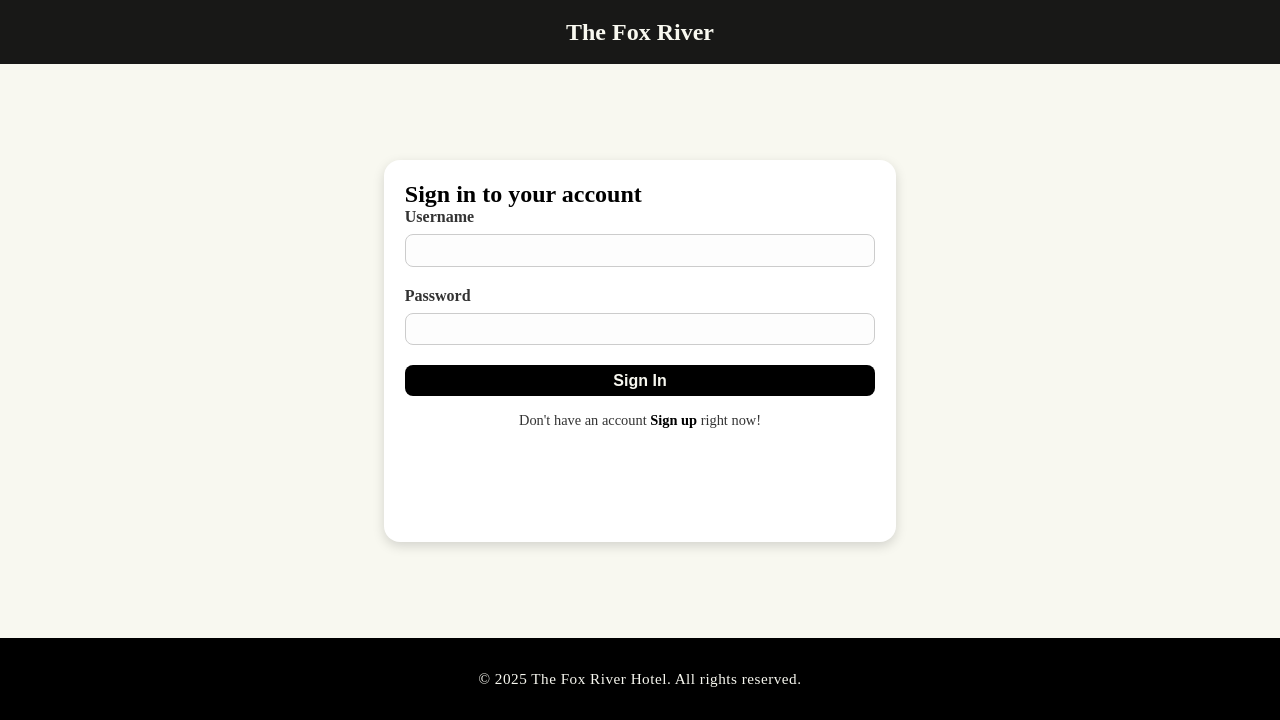
Test: Login.vue › displays error on incorrect credentials
Type "wrong" into the field with id "username". click: (640, 250)
box: [405,234,875,267]
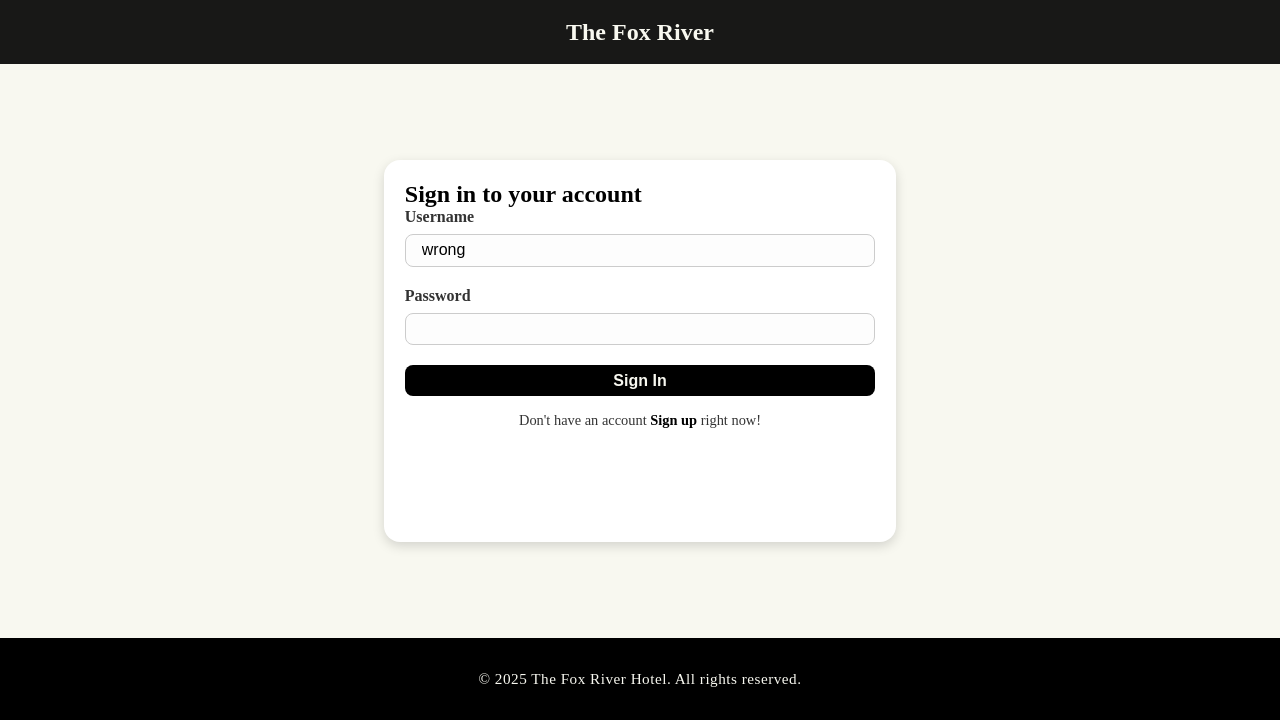
Type "wrongpass" into the password field labelled "Password". click: (640, 329)
box: [405,313,875,345]
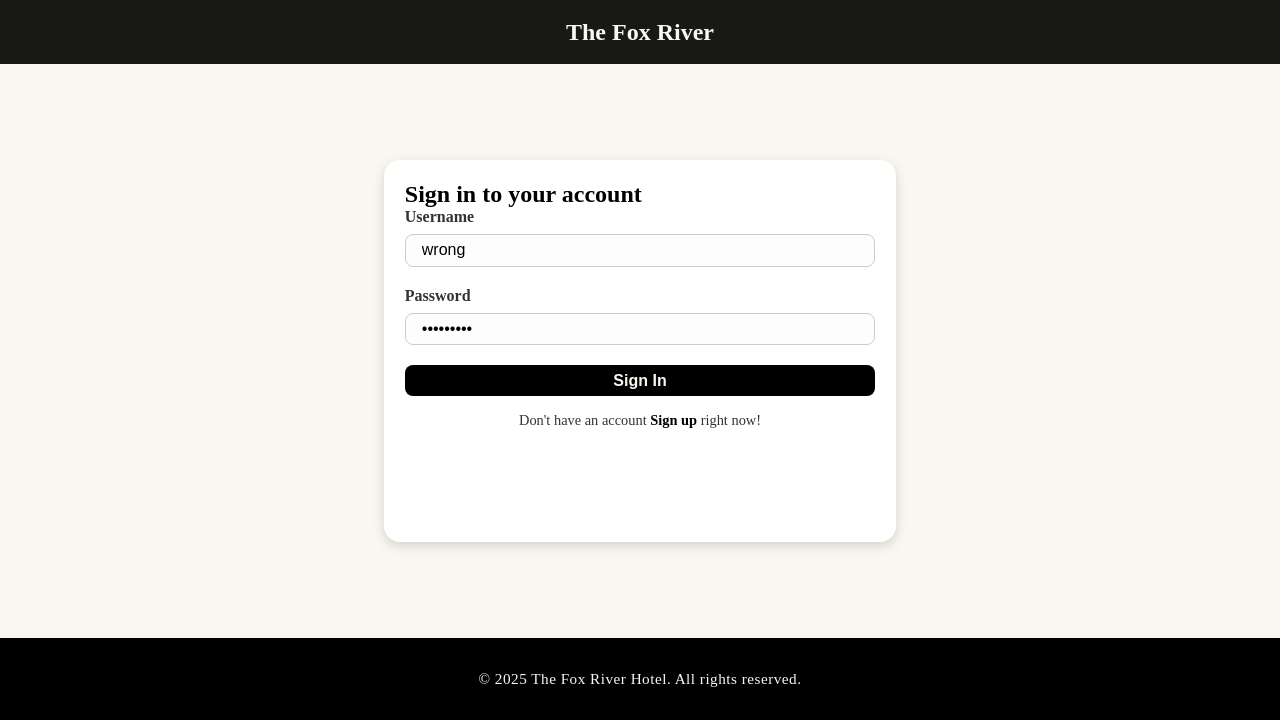
Submit the form, box [405,208,875,396]
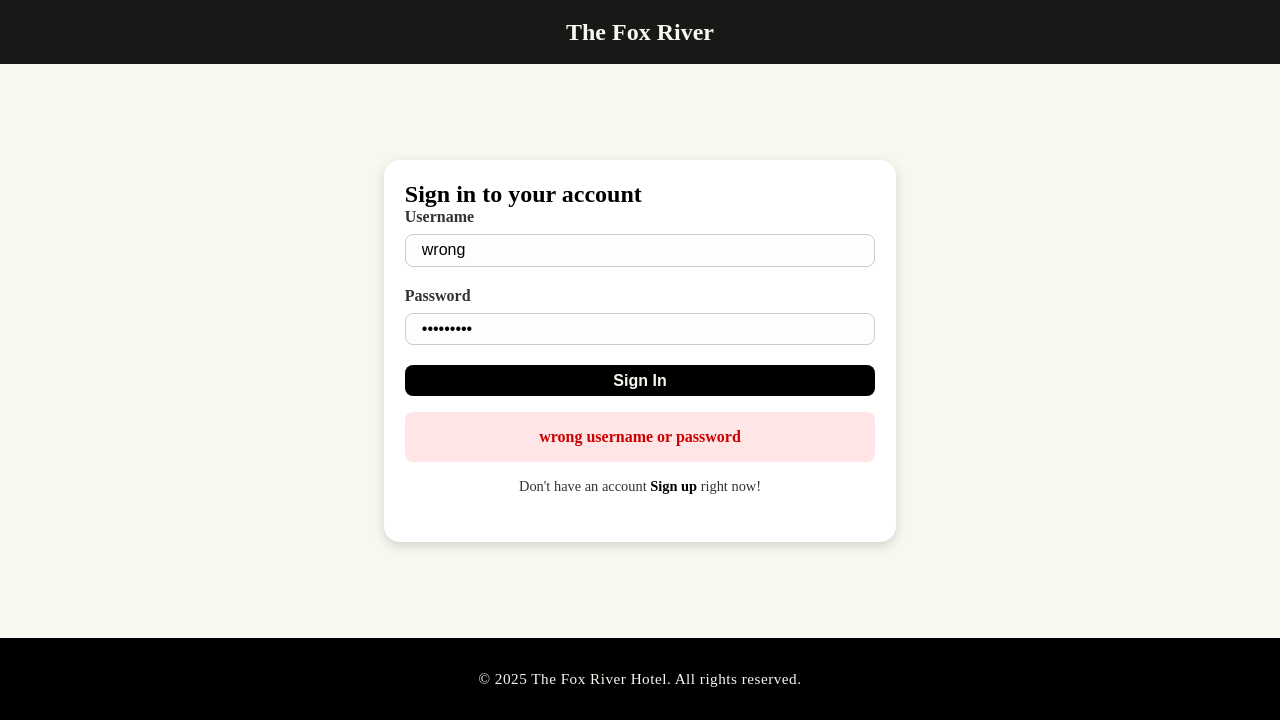
Now the text with class "error" reads "wrong username or password", box [539,428,741,445]
